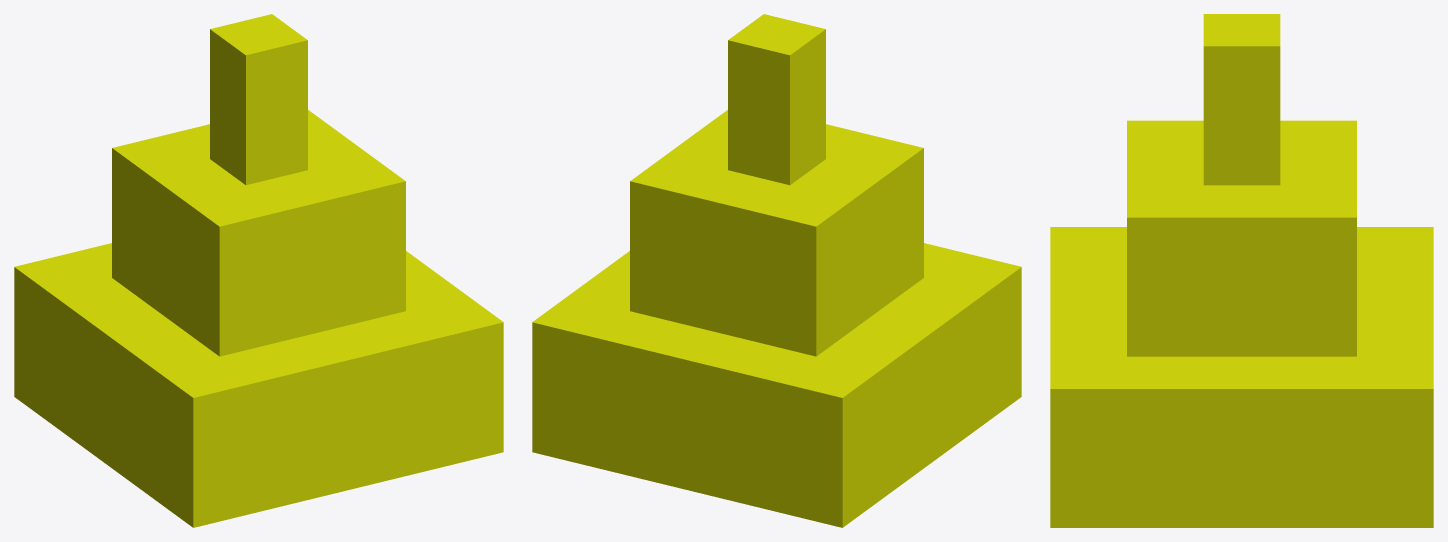
Rendered from structures.gltf.
3 views of the same model, side by side, from view 1: azimuth 30°, elevation 25°; view 2: azimuth 150°, elevation 25°; view 3: azimuth 270°, elevation 25° (orthographic). The views are drawn at different scales.
Parts seen in each view (by area): view 1: Cube.119, Cube.144, Cube.151, Cube.112, Cube.094, Cube.150, Cube.129, Cube.130, Cube.143, Cube.148, Cube.124, Cube.131 (+22 smaller); view 2: Cube.120, Cube.146, Cube.151, Cube.110, Cube.093, Cube.150, Cube.126, Cube.127, Cube.145, Cube.147, Cube.125, Cube.128 (+22 smaller); view 3: Cube.121, Cube.149, Cube.151, Cube.122, Cube.123, Cube.124, Cube.125, Cube.147, Cube.148, Cube.107, Cube.092, Cube.150 (+18 smaller).
Boxes of the visible parts, box(x1,y1,x2,y2) form: Cube.119: box(157, 356, 255, 462); Cube.144: box(183, 185, 281, 291); Cube.151: box(210, 14, 307, 120); Cube.112: box(183, 265, 281, 356); Cube.094: box(157, 437, 255, 527); Cube.150: box(210, 94, 307, 185); Cube.129: box(344, 311, 441, 417); Cube.130: box(220, 341, 317, 447); Cube.143: box(246, 170, 343, 276); Cube.148: box(308, 155, 405, 261); Cube.124: box(406, 296, 503, 402); Cube.131: box(282, 326, 379, 432); Cube.120: box(780, 356, 878, 462); Cube.146: box(754, 185, 852, 291); Cube.151: box(728, 14, 825, 120); Cube.110: box(754, 265, 852, 356); Cube.093: box(780, 437, 878, 527); Cube.150: box(728, 94, 825, 185); Cube.126: box(594, 311, 691, 417); Cube.127: box(718, 341, 815, 447); Cube.145: box(692, 170, 789, 276); Cube.147: box(630, 155, 727, 261); Cube.125: box(532, 296, 629, 402); Cube.128: box(656, 326, 753, 432); Cube.121: box(1203, 356, 1280, 458); Cube.149: box(1203, 185, 1280, 287); Cube.151: box(1203, 14, 1280, 115); Cube.122: box(1127, 356, 1203, 458); Cube.123: box(1280, 356, 1356, 458); Cube.124: box(1050, 356, 1126, 458); Cube.125: box(1357, 356, 1433, 458); Cube.147: box(1280, 185, 1356, 287); Cube.148: box(1127, 185, 1203, 287); Cube.107: box(1203, 287, 1280, 356); Cube.092: box(1203, 458, 1280, 527); Cube.150: box(1203, 116, 1280, 185).
Bounding box in the file's own units: 5 × 6 × 5.
